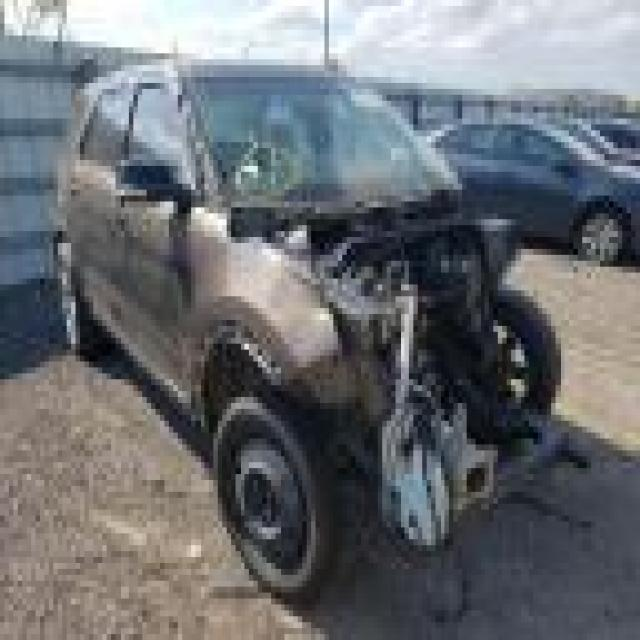severe: (216, 153, 618, 621)
